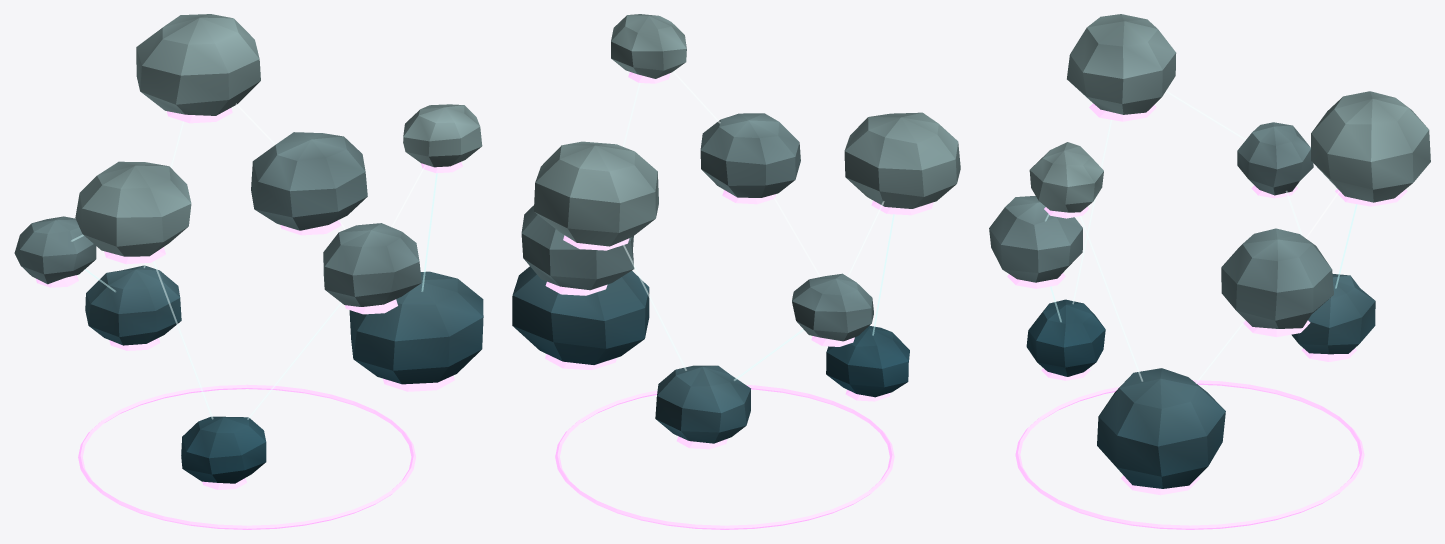
Rendered from prop_floating_stones.glb.
3 views of the same model, side by side, from view 1: azimuth 30°, elevation 25°; view 2: azimuth 150°, elevation 25°; view 3: azimuth 270°, elevation 25° (orthographic). The views are drawn at different scales.
Parts seen in each view (by area): view 1: prop_floating_stones_stone, prop_floating_stones_lume, prop_floating_stones_beam; view 2: prop_floating_stones_stone, prop_floating_stones_lume, prop_floating_stones_beam; view 3: prop_floating_stones_stone, prop_floating_stones_lume, prop_floating_stones_beam.
Part boxes in pixels (x1=…): prop_floating_stones_stone: x1=14, y1=14, x2=483, y2=483; prop_floating_stones_lume: x1=35, y1=108, x2=462, y2=529; prop_floating_stones_beam: x1=71, y1=103, x2=437, y2=419; prop_floating_stones_stone: x1=512, y1=14, x2=960, y2=443; prop_floating_stones_lume: x1=545, y1=72, x2=933, y2=529; prop_floating_stones_beam: x1=623, y1=71, x2=894, y2=380; prop_floating_stones_stone: x1=989, y1=14, x2=1430, y2=488; prop_floating_stones_lume: x1=1007, y1=103, x2=1407, y2=529; prop_floating_stones_beam: x1=1045, y1=90, x2=1357, y2=383.
Size of the model in its own units: 6.09 by 5.1 by 5.39.
